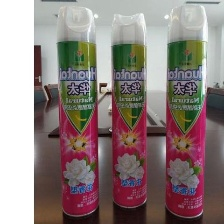aerosol_cans: (161, 2, 210, 221), (53, 3, 100, 220), (108, 10, 149, 210)
